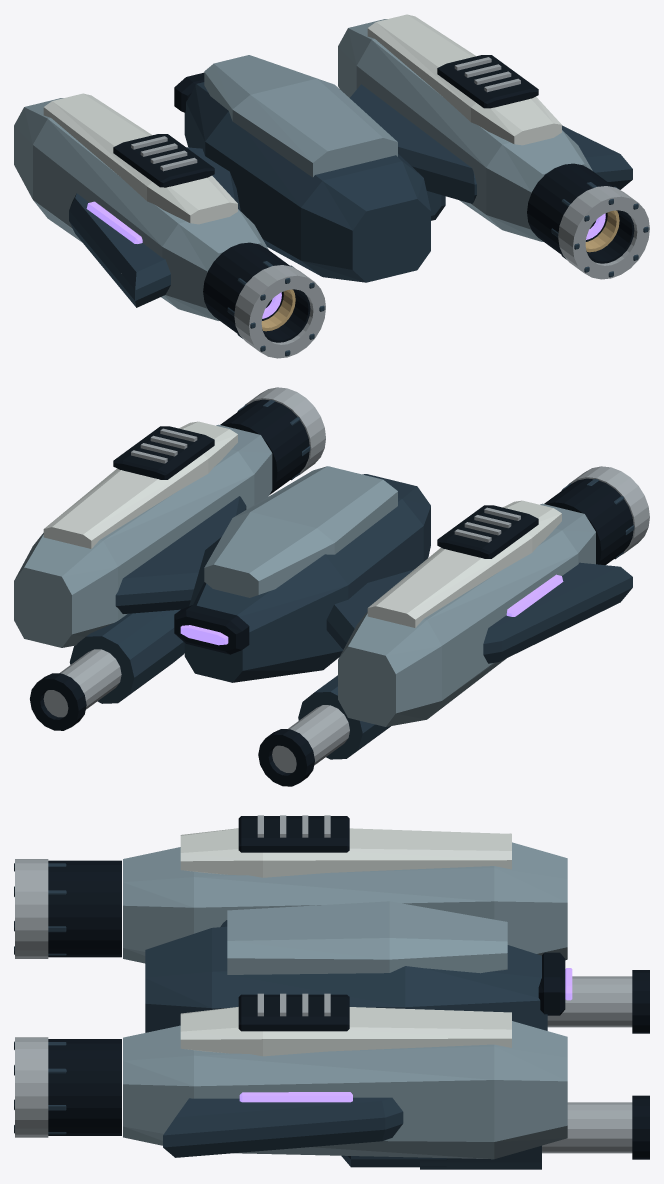
File: striker_debris.glb
3 renders of one model, top to bottom at view 1: azimuth 30°, elevation 25°; view 2: azimuth 150°, elevation 25°; view 3: azimuth 270°, elevation 25°, orthographic. The views are drawn at different scales.
Visible parts, largest first — view 1: port_armor, starboard_armor, port_engine, starboard_engine, core_armor, core_engine; view 2: port_armor, starboard_armor, core_armor, port_engine, starboard_engine, core_engine; view 3: starboard_armor, port_armor, core_armor, starboard_engine, port_engine, core_engine.
Part boxes in pixels (left/top/right/bottom): port_armor: left=14, top=93, right=300, bottom=308; starboard_armor: left=338, top=14, right=620, bottom=229; port_engine: left=70, top=157, right=325, bottom=358; starboard_engine: left=471, top=78, right=649, bottom=279; core_armor: left=174, top=55, right=421, bottom=276; core_engine: left=301, top=138, right=430, bottom=282; port_armor: left=258, top=505, right=631, bottom=786; starboard_armor: left=14, top=426, right=254, bottom=730; core_armor: left=174, top=466, right=423, bottom=682; port_engine: left=484, top=466, right=649, bottom=661; starboard_engine: left=160, top=387, right=325, bottom=504; core_engine: left=362, top=474, right=430, bottom=561; starboard_armor: left=164, top=993, right=649, bottom=1169; port_armor: left=194, top=815, right=649, bottom=1033; core_armor: left=212, top=901, right=572, bottom=1030; starboard_engine: left=14, top=993, right=383, bottom=1157; port_engine: left=14, top=815, right=263, bottom=963; core_engine: left=145, top=928, right=211, bottom=1032.
Bounding box in the file's own units: 2.92 × 0.9383 × 2.86.
